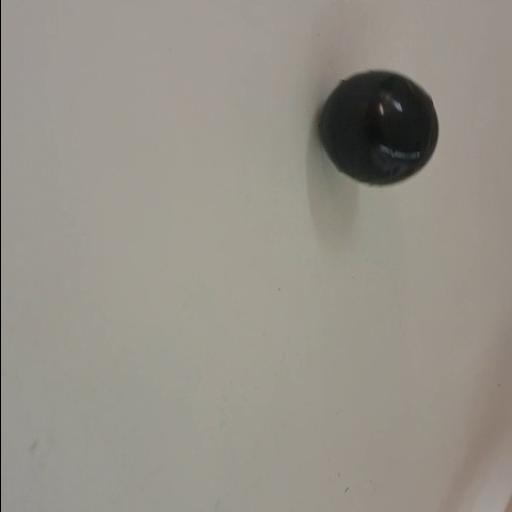dead: (317, 68, 440, 190)
